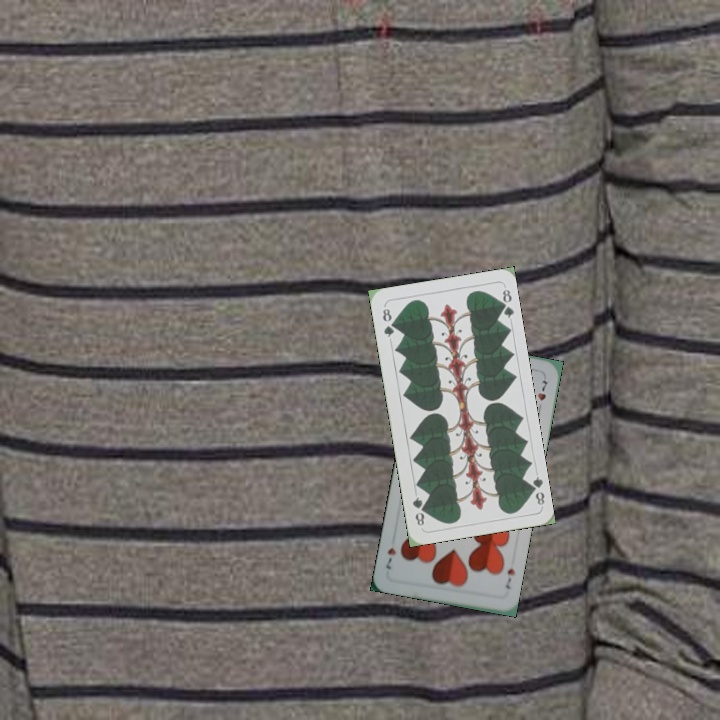G8: (525, 472, 547, 507), (378, 304, 397, 340)
H7: (502, 564, 518, 591)
